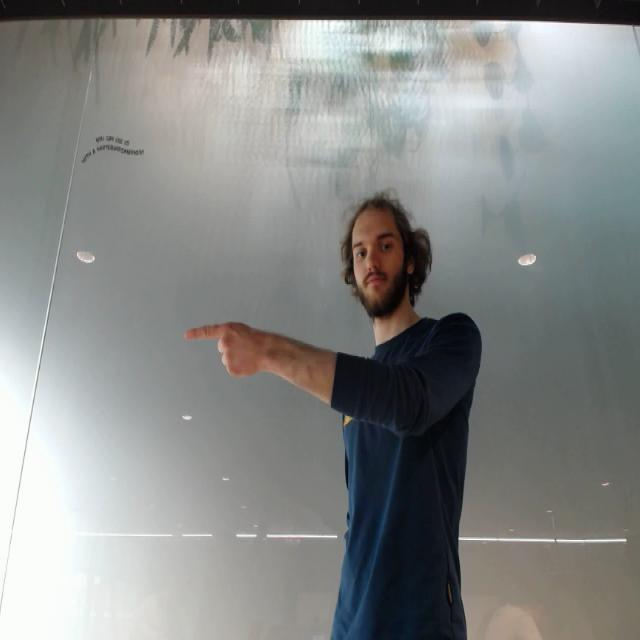left: (180, 310, 270, 382)
